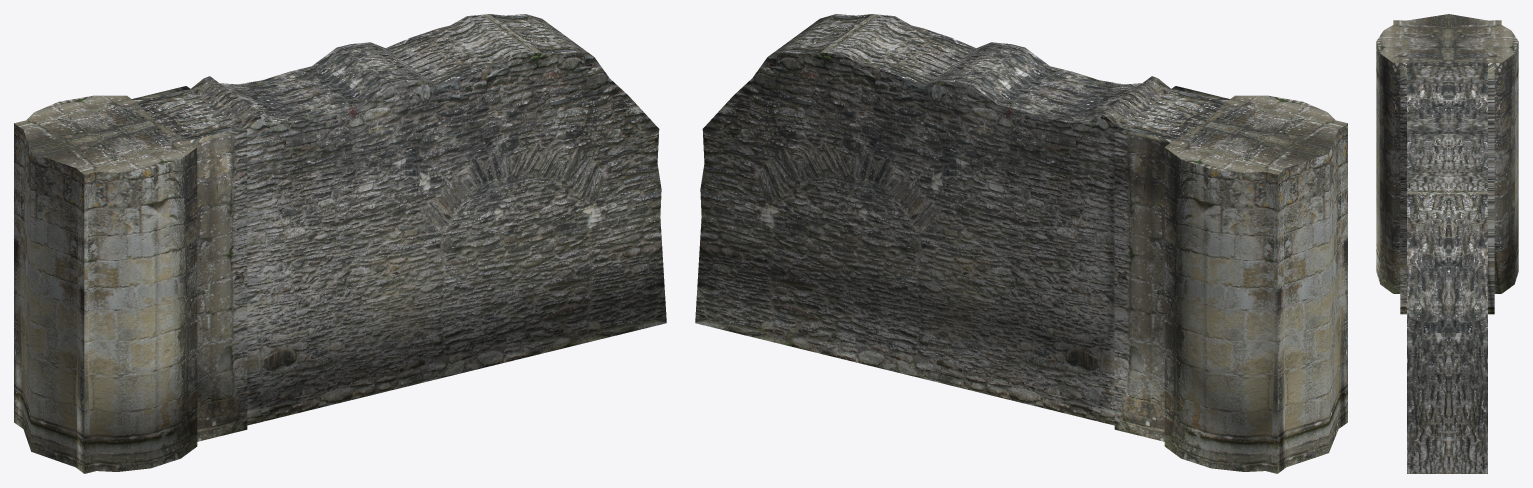
File: ancientwall1.obj
3 renders of one model, left to right at view 1: azimuth 30°, elevation 25°; view 2: azimuth 150°, elevation 25°; view 3: azimuth 270°, elevation 25°, orthographic. The views are drawn at different scales.
Visible parts, largest first — view 1: def_surf_mat; view 2: def_surf_mat; view 3: def_surf_mat.
Boxes of the visible parts, <box> form: def_surf_mat: <box>14,14,666,473</box>; def_surf_mat: <box>695,14,1347,473</box>; def_surf_mat: <box>1376,14,1518,473</box>.
Size of the model in its own units: 174 by 83.96 by 45.6.
